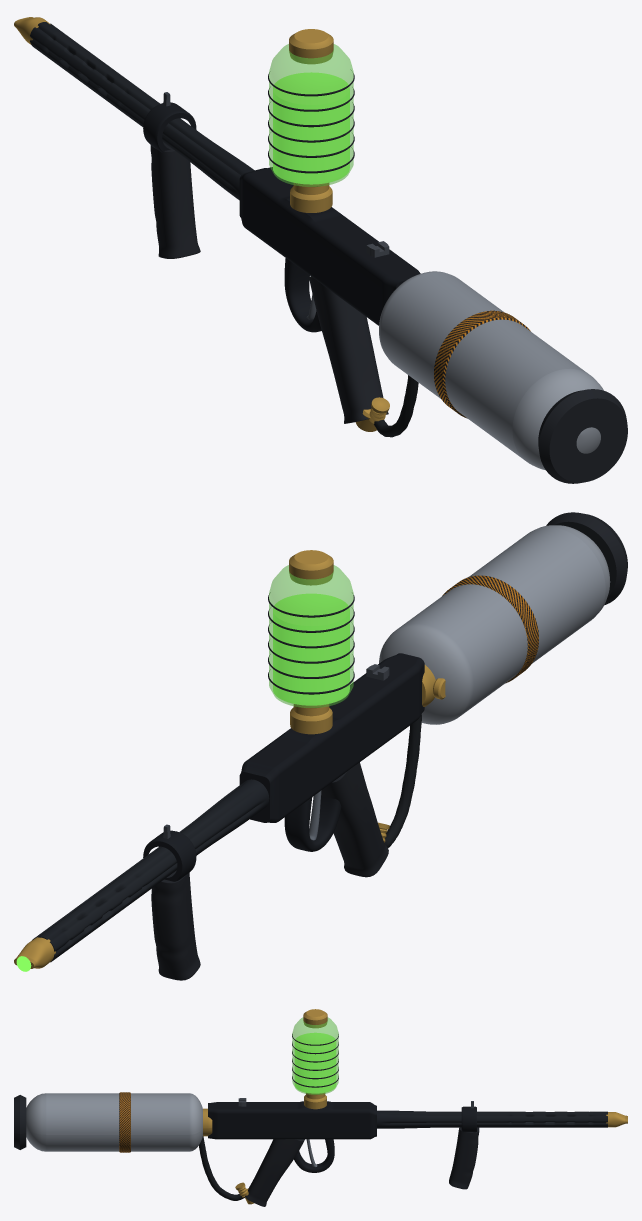
Rendered from weapon_poisonstream_world.glb.
3 views of the same model, one above another, from view 1: azimuth 30°, elevation 25°; view 2: azimuth 150°, elevation 25°; view 3: azimuth 270°, elevation 25° (orthographic). The views are drawn at different scales.
Parts seen in each view (by area): view 1: poisonstream_bottle, poisonstream_body, poisonstream_reservoir, poisonstream_dose, poisonstream_barrel, poisonstream_butt_pad, poisonstream_grip, poisonstream_foregrip, poisonstream_bottle_band, poisonstream_trigger_guard, poisonstream_cap, poisonstream_clamp (+2 smaller); view 2: poisonstream_bottle, poisonstream_body, poisonstream_reservoir, poisonstream_barrel, poisonstream_dose, poisonstream_grip, poisonstream_foregrip, poisonstream_butt_pad, poisonstream_trigger_guard, poisonstream_bottle_band, poisonstream_hose, poisonstream_cap (+3 smaller); view 3: poisonstream_bottle, poisonstream_body, poisonstream_barrel, poisonstream_reservoir, poisonstream_dose, poisonstream_grip, poisonstream_foregrip, poisonstream_bottle_band, poisonstream_butt_pad, poisonstream_trigger_guard, poisonstream_hose, poisonstream_cap (+2 smaller).
Part boxes in pixels (x1=…): poisonstream_bottle: x1=379, y1=271, x2=603, y2=469; poisonstream_body: x1=239, y1=167, x2=420, y2=325; poisonstream_reservoir: x1=269, y1=44, x2=353, y2=186; poisonstream_dose: x1=273, y1=72, x2=349, y2=184; poisonstream_barrel: x1=30, y1=22, x2=254, y2=200; poisonstream_butt_pad: x1=538, y1=389, x2=627, y2=483; poisonstream_grip: x1=309, y1=276, x2=388, y2=423; poisonstream_foregrip: x1=150, y1=142, x2=200, y2=258; poisonstream_bottle_band: x1=434, y1=310, x2=530, y2=418; poisonstream_trigger_guard: x1=284, y1=258, x2=321, y2=332; poisonstream_cap: x1=289, y1=29, x2=333, y2=64; poisonstream_clamp: x1=143, y1=102, x2=196, y2=152; poisonstream_bottle: x1=379, y1=525, x2=610, y2=724; poisonstream_body: x1=239, y1=653, x2=424, y2=822; poisonstream_reservoir: x1=269, y1=565, x2=353, y2=707; poisonstream_barrel: x1=32, y1=779, x2=269, y2=962; poisonstream_dose: x1=273, y1=593, x2=349, y2=705; poisonstream_grip: x1=321, y1=762, x2=388, y2=877; poisonstream_foregrip: x1=151, y1=870, x2=200, y2=980; poisonstream_butt_pad: x1=546, y1=512, x2=627, y2=605; poisonstream_trigger_guard: x1=284, y1=796, x2=341, y2=851; poisonstream_bottle_band: x1=442, y1=575, x2=538, y2=683; poisonstream_hose: x1=384, y1=714, x2=421, y2=847; poisonstream_cap: x1=289, y1=550, x2=333, y2=585; poisonstream_bottle: x1=26, y1=1093, x2=202, y2=1151; poisonstream_body: x1=208, y1=1101, x2=376, y2=1139; poisonstream_barrel: x1=377, y1=1110, x2=607, y2=1128; poisonstream_reservoir: x1=292, y1=1017, x2=338, y2=1094; poisonstream_dose: x1=294, y1=1032, x2=336, y2=1093; poisonstream_grip: x1=245, y1=1139, x2=304, y2=1206; poisonstream_foregrip: x1=449, y1=1127, x2=479, y2=1189; poisonstream_bottle_band: x1=119, y1=1092, x2=130, y2=1152; poisonstream_butt_pad: x1=14, y1=1095, x2=26, y2=1149; poisonstream_trigger_guard: x1=294, y1=1139, x2=334, y2=1172; poisonstream_hose: x1=199, y1=1136, x2=244, y2=1200; poisonstream_cap: x1=303, y1=1009, x2=327, y2=1028.
Bounding box in the file's own units: 0.0784 × 0.274 × 0.7982.
12 materials, 1 textured.
